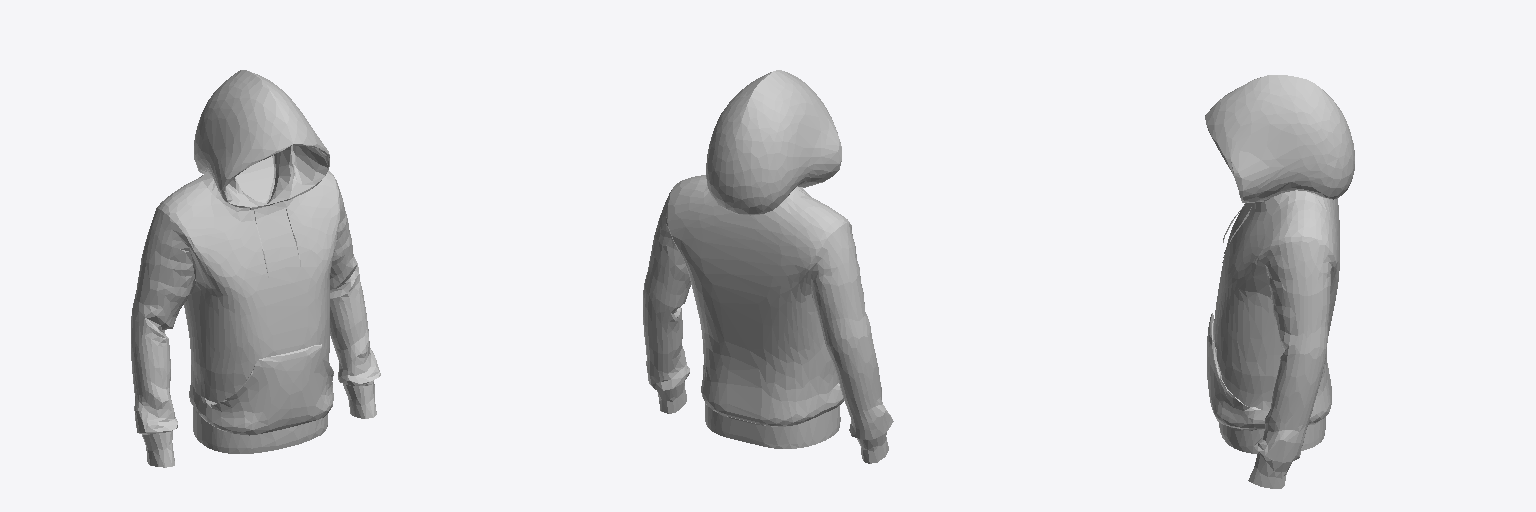
Rendered from downsampled_striped.obj.
3 views of the same model, side by side, from view 1: azimuth 30°, elevation 25°; view 2: azimuth 150°, elevation 25°; view 3: azimuth 270°, elevation 25° (orthographic).
Bounding box in the file's own units: 1.3 × 1.9 × 0.7172.